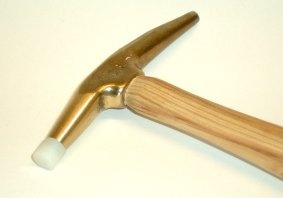hammer: (29, 8, 283, 187)
